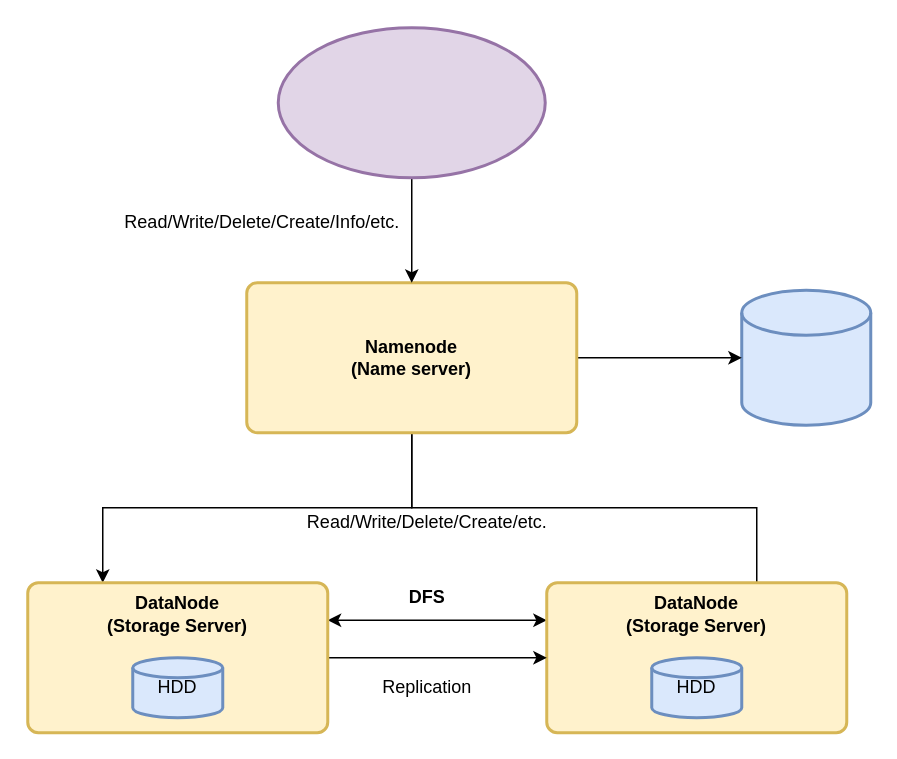
The diagram is 897 pixels wide and 759 high, and some of its shapes have lost their labels. Here are the shapes that lost their labels. From the top down, the centre of each, then its label:
At [411,102]: "Client Application".
At [806,357]: "Meta data".
